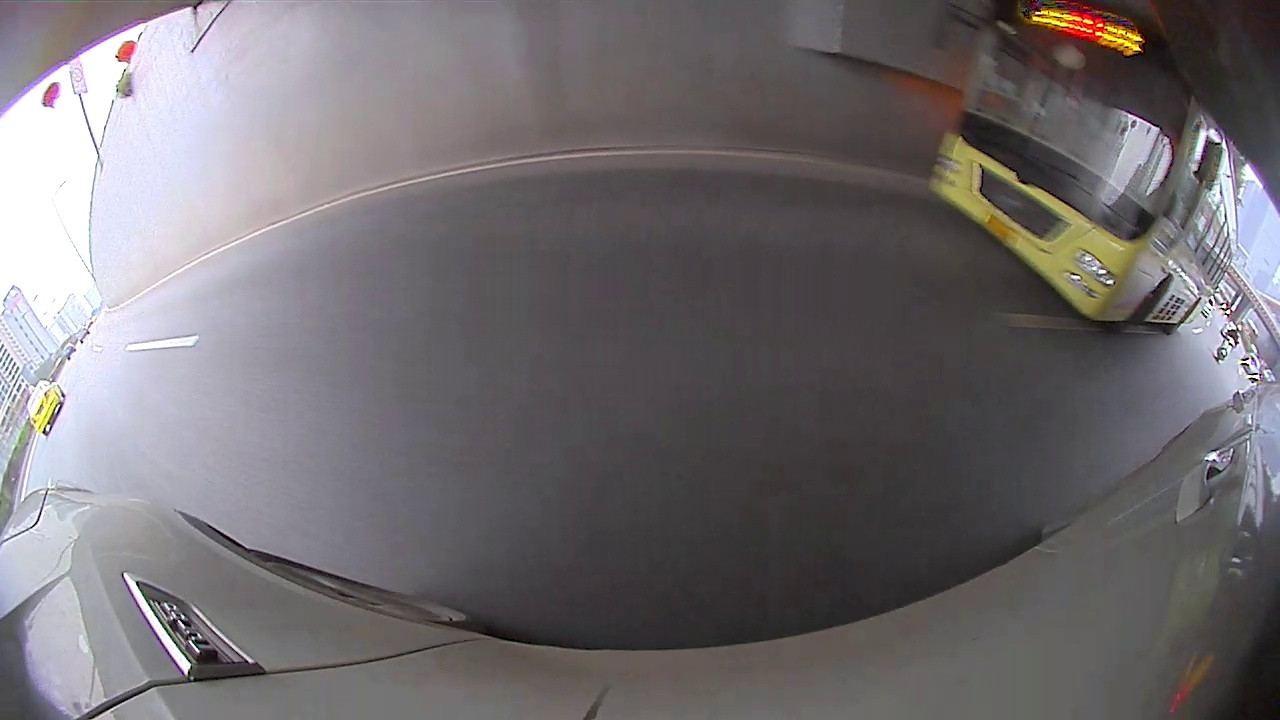bus: (928, 1, 1234, 340)
car: (24, 379, 68, 434)
front: (1115, 273, 1170, 337)
